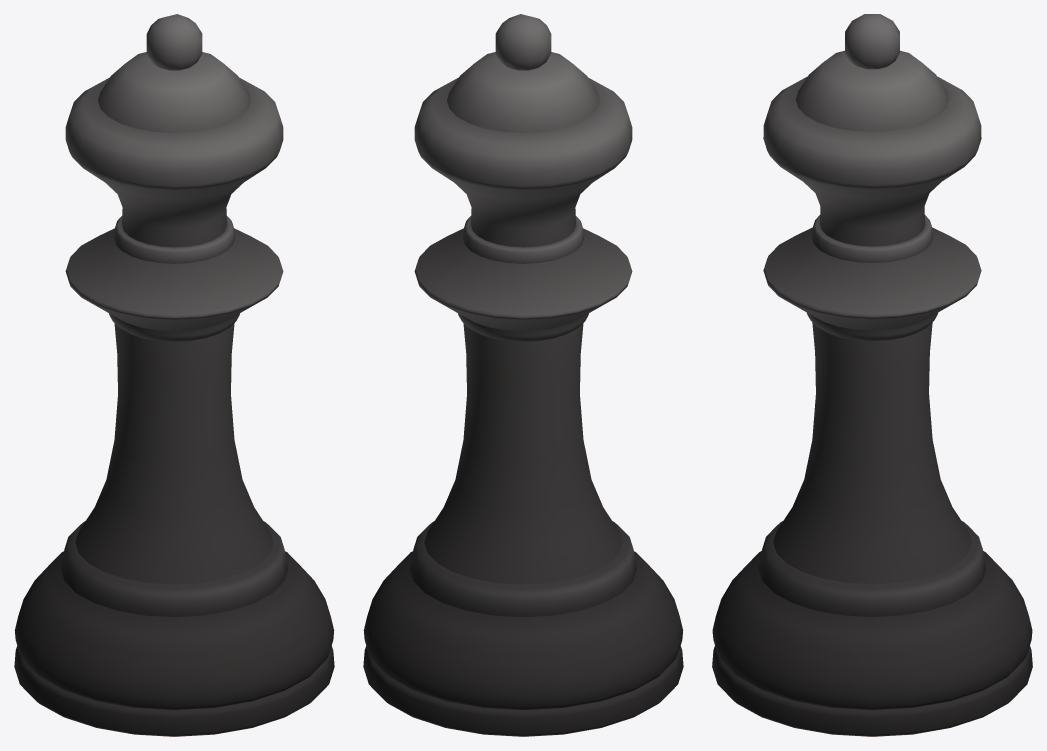
Rendered from Chess_Black_Queen_01.glb.
3 views of the same model, side by side, from view 1: azimuth 30°, elevation 25°; view 2: azimuth 150°, elevation 25°; view 3: azimuth 270°, elevation 25° (orthographic).
Parts seen in each view (by area): view 1: Chess_Black_Queen_01; view 2: Chess_Black_Queen_01; view 3: Chess_Black_Queen_01.
Boxes of the visible parts, left/top/right/bottom form: Chess_Black_Queen_01: left=14, top=14, right=334, bottom=736; Chess_Black_Queen_01: left=363, top=14, right=683, bottom=736; Chess_Black_Queen_01: left=712, top=14, right=1032, bottom=736.
Size of the model in its own units: 0.0401 by 0.0909 by 0.0401.
Materials: 2 (2 with a texture image).
